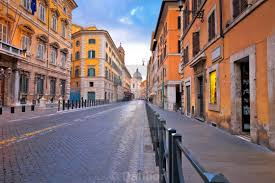strada: (0, 100, 260, 183)
